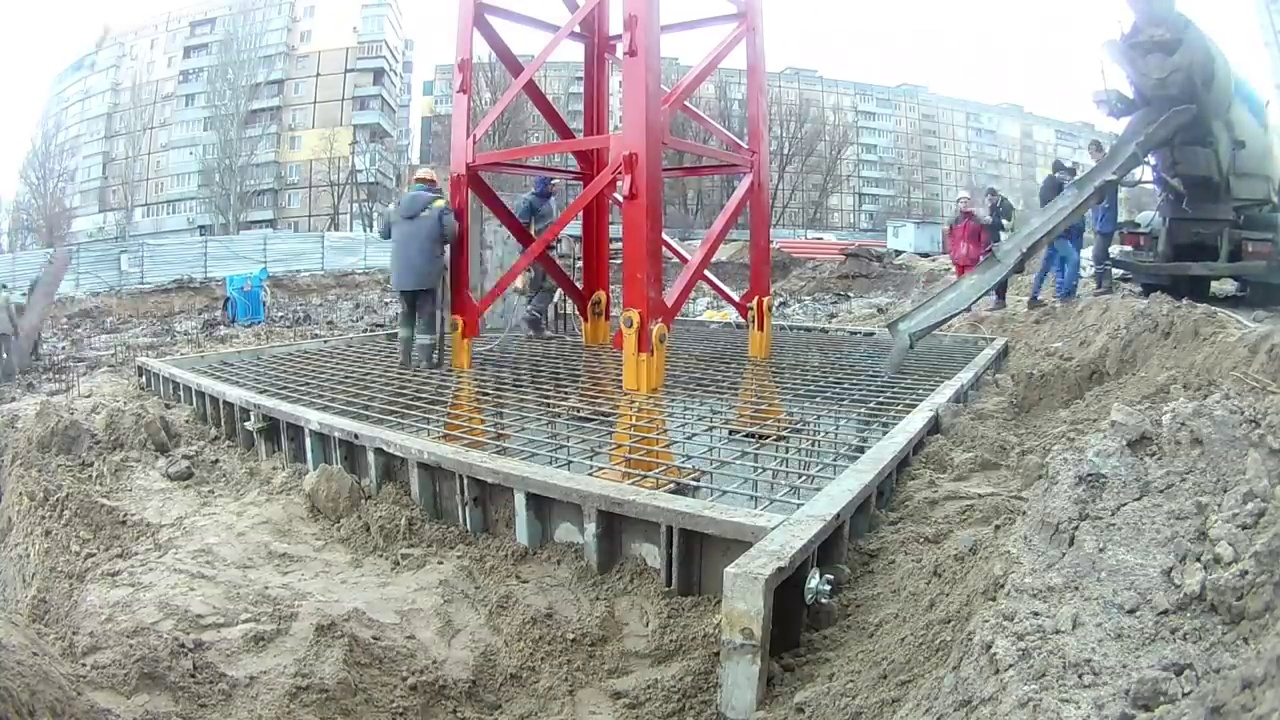helmet: (413, 167, 437, 185), (955, 189, 971, 203)
helmet-off: (531, 171, 560, 200), (1085, 140, 1106, 165), (1051, 161, 1068, 186)
helmet-on: (409, 167, 439, 198), (955, 189, 973, 217)
person: (377, 167, 460, 372), (515, 171, 563, 343), (1029, 159, 1084, 306), (1085, 140, 1120, 296), (983, 187, 1017, 314), (944, 190, 991, 279)
